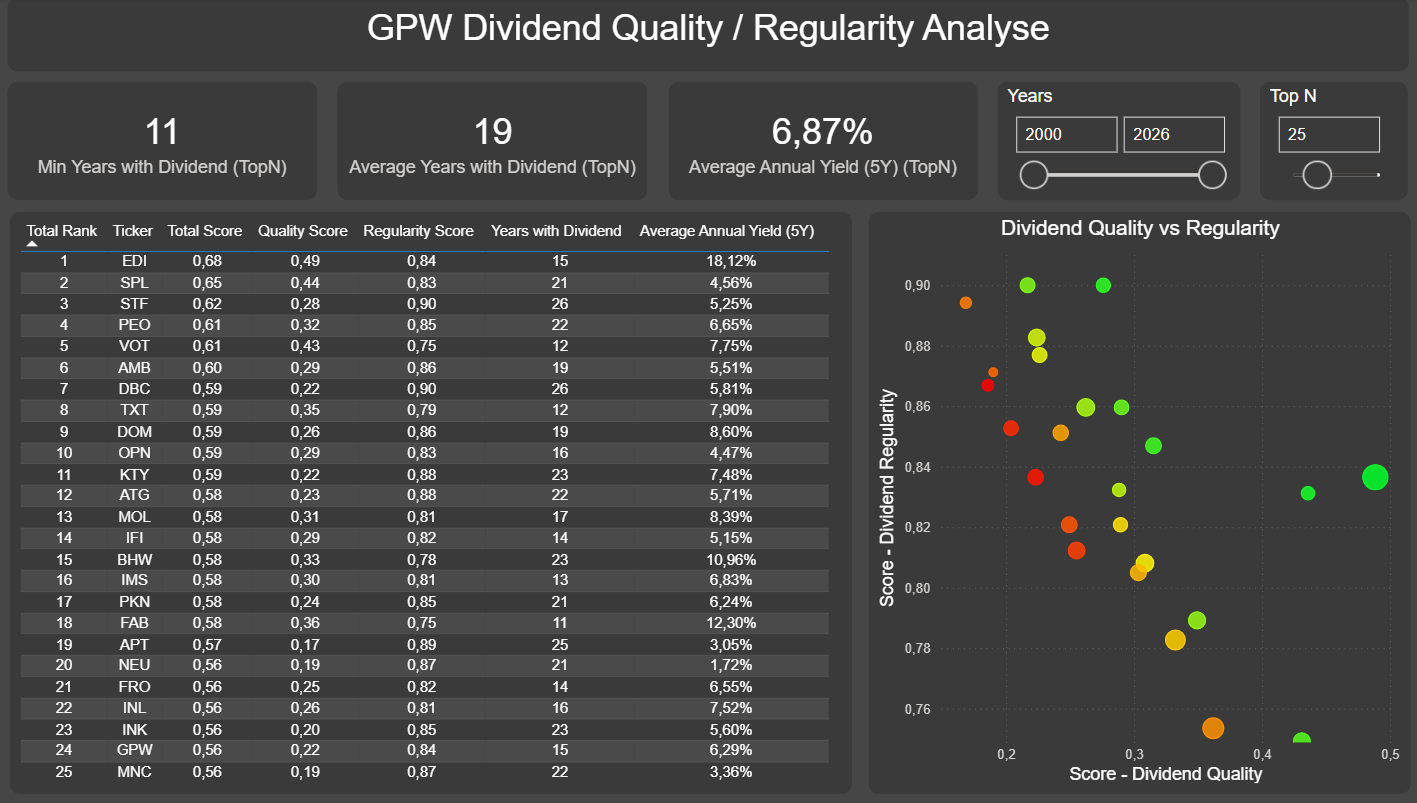

What the dashboard file says about the page in this screenshot:
{"tool":"powerbi","page":{"name":"Dashboard","canvas":[1280,720],"ordinal":0},"visuals":[{"type":"tableEx","fields":{"Values":["_5 Rank.Total Rank","Dividends_fact.Ticker","_4 Dividend - Score.Score - Total","_4 Dividend - Score.Score - Dividend Quality","_4 Dividend - Score.Score - Dividend Regularity","_2 Dividend - RAW.Years Dividend","_2 Dividend - RAW.Average Annual Dividend Yield Sum (5Y)"]},"box":[17.4,191.1,752,520],"z":0},{"type":"scatterChart","title":"Dividend Quality vs Regularity","fields":{"Category":["Dividends_fact.Ticker"],"Size":["_2 Dividend - RAW.Average Annual Dividend Yield Sum (5Y)"],"X":["_4 Dividend - Score.Score - Dividend Quality"],"Y":["_4 Dividend - Score.Score - Dividend Regularity"]},"box":[784.5,191.1,483.8,519.9],"z":1000},{"type":"slicer","title":"Top N","fields":{"Values":["TopN Value.TopN Value"]},"box":[1134.9,74.8,132.3,105.6],"z":2000},{"type":"textbox","box":[16,0,1252.2,65.5],"z":3000},{"type":"card","fields":{"Values":["_1 Dividend - Helper.Min Years in TopN"]},"box":[310.9,74.8,277.1,105.7],"z":4000},{"type":"card","fields":{"Values":["_1 Dividend - Helper.Min Years with dividend in TopN"]},"box":[16,74.8,276.6,105.6],"z":5000},{"type":"card","fields":{"Values":["_1 Dividend - Helper.Avg Yield (5Y) in TopN"]},"box":[606.2,74.8,275.7,105.7],"z":6000},{"type":"slicer","title":"Years","fields":{"Values":["date_dim.Year"]},"box":[900.2,74.8,216.5,105.6],"z":7000}]}

Visuals, with their boxes in screenshot pixels (x1, y1, x2, y2), scaled from the page's 1280x720 canvas onto the 1417x803 screenshot:
tableEx - _5 Rank.Total Rank x Dividends_fact.Ticker: pyautogui.locateOnScreen(19, 213, 852, 793)
"Dividend Quality vs Regularity" scatterChart: pyautogui.locateOnScreen(868, 213, 1404, 793)
"Top N" slicer: pyautogui.locateOnScreen(1256, 83, 1403, 201)
textbox: pyautogui.locateOnScreen(18, 0, 1404, 73)
card - _1 Dividend - Helper.Min Years in TopN: pyautogui.locateOnScreen(344, 83, 651, 201)
card - _1 Dividend - Helper.Min Years with dividend in TopN: pyautogui.locateOnScreen(18, 83, 324, 201)
card - _1 Dividend - Helper.Avg Yield (5Y) in TopN: pyautogui.locateOnScreen(671, 83, 976, 201)
"Years" slicer: pyautogui.locateOnScreen(997, 83, 1236, 201)
